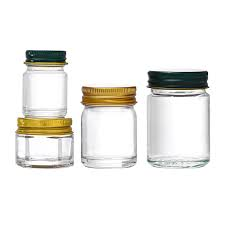glass_bottle: (11, 41, 218, 179)
